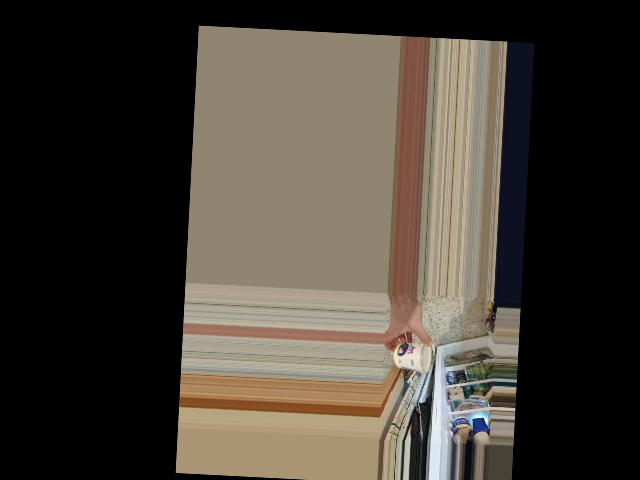cotage: (392, 339, 429, 371)
